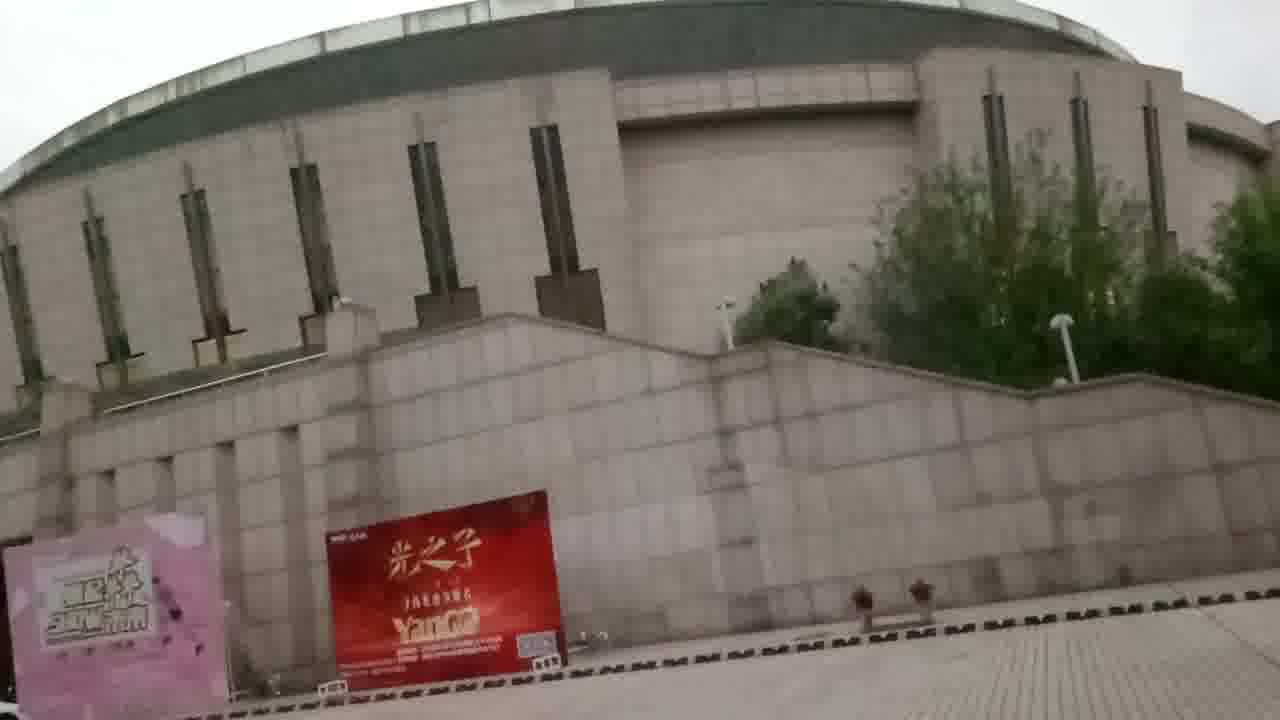zhongtiww: (14, 4, 1280, 625)
